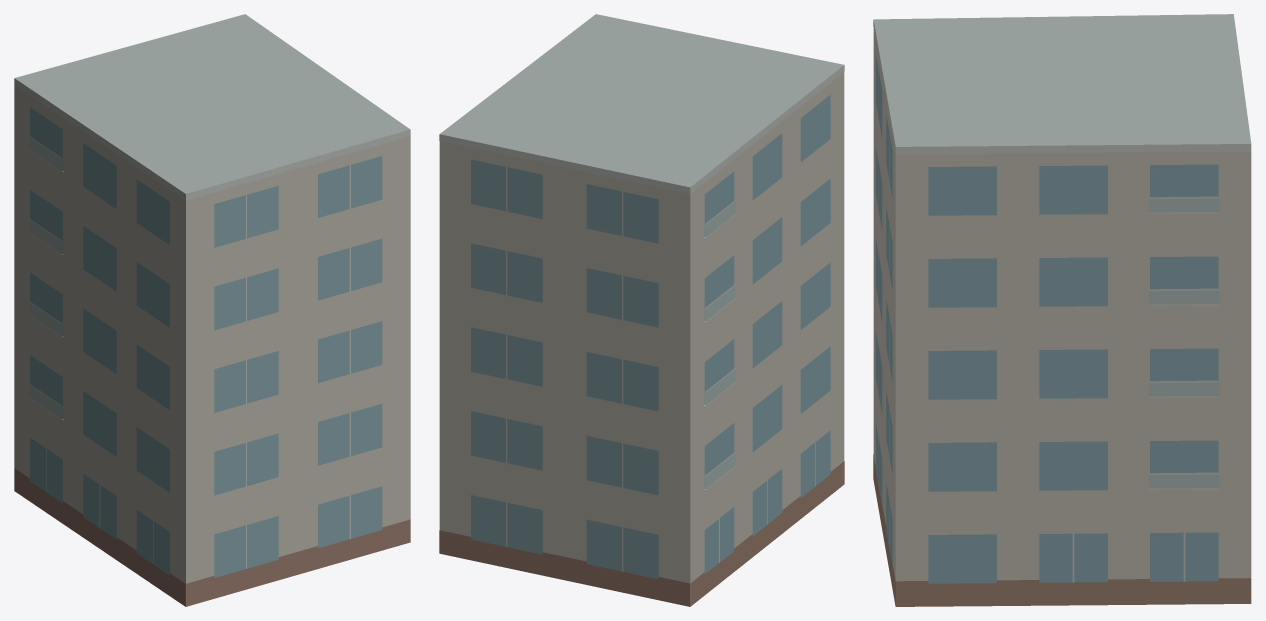
File: survey-upis-32723548.glb
The picture shows the model from 3 angles, left to right: view 1: azimuth 30°, elevation 25°; view 2: azimuth 150°, elevation 25°; view 3: azimuth 270°, elevation 25°; orthographic projection. The views are drawn at different scales.
Visible parts, largest first — view 1: survey-upis-32723548.tmp; view 2: survey-upis-32723548.tmp; view 3: survey-upis-32723548.tmp.
Part boxes in pixels (x1,y1,x2,y2): survey-upis-32723548.tmp: (14, 14, 410, 606); survey-upis-32723548.tmp: (439, 14, 844, 606); survey-upis-32723548.tmp: (873, 14, 1251, 606).
Bounding box in the file's own units: 9.46 × 15.25 × 11.36.
